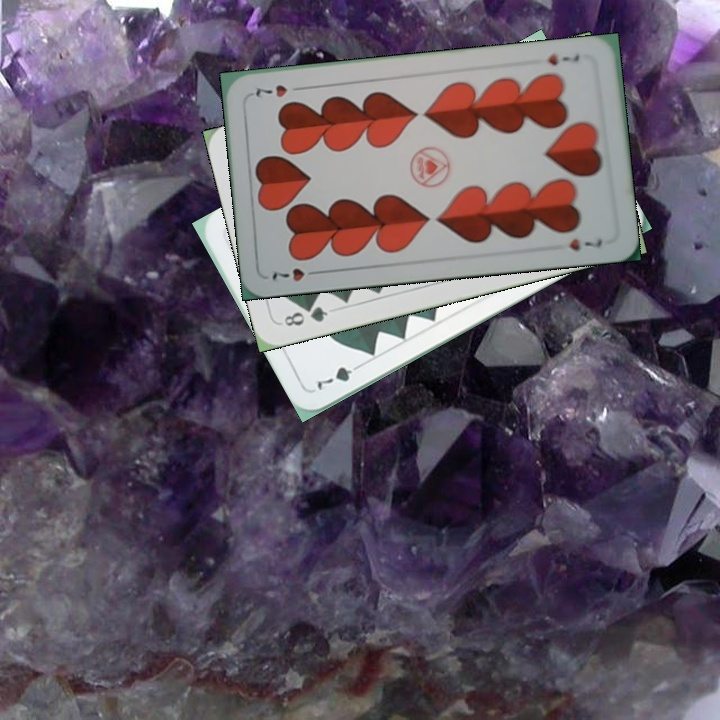G7: (311, 359, 366, 394)
G8: (279, 302, 330, 329)
H7: (268, 264, 324, 284), (544, 48, 582, 68)
